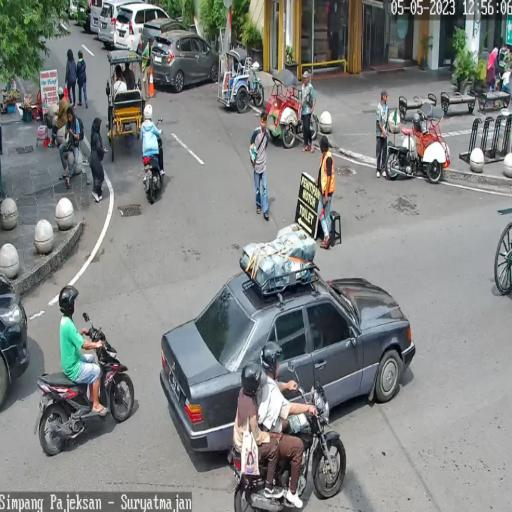mobil: (160, 232, 417, 464), (150, 30, 220, 90), (114, 2, 168, 48), (140, 18, 186, 64)
motor: (229, 365, 346, 511), (35, 310, 136, 457), (138, 116, 166, 206)
